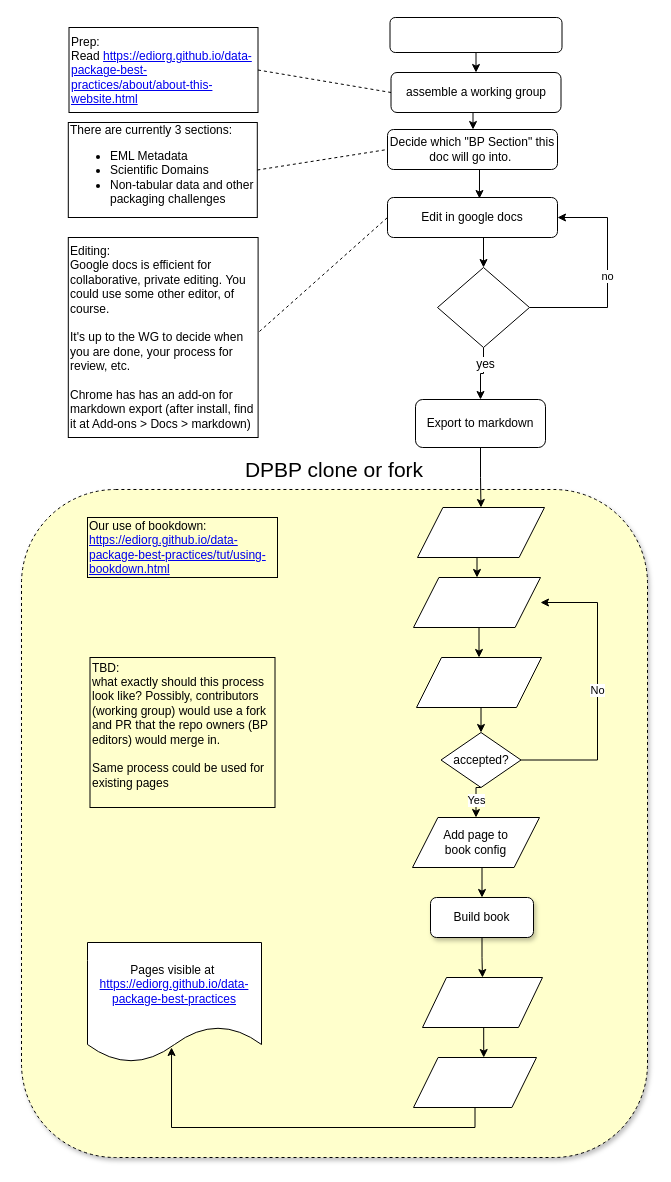
The diagram is 671 pixels wide and 1182 high, and some of its shapes have lost their labels. The centre of each missing label's shape, as x and y in pixels:
add, commit, push: pixel 474 1082
Create new page: pixel 480 532
Done with private editing?: pixel 483 307
edit, add, commit, push: pixel 476 602
output (local /docs/): pixel 482 1002
Review by BP committee or other: pixel 479 682
Start: a new BP recommendation: pixel 475 34
